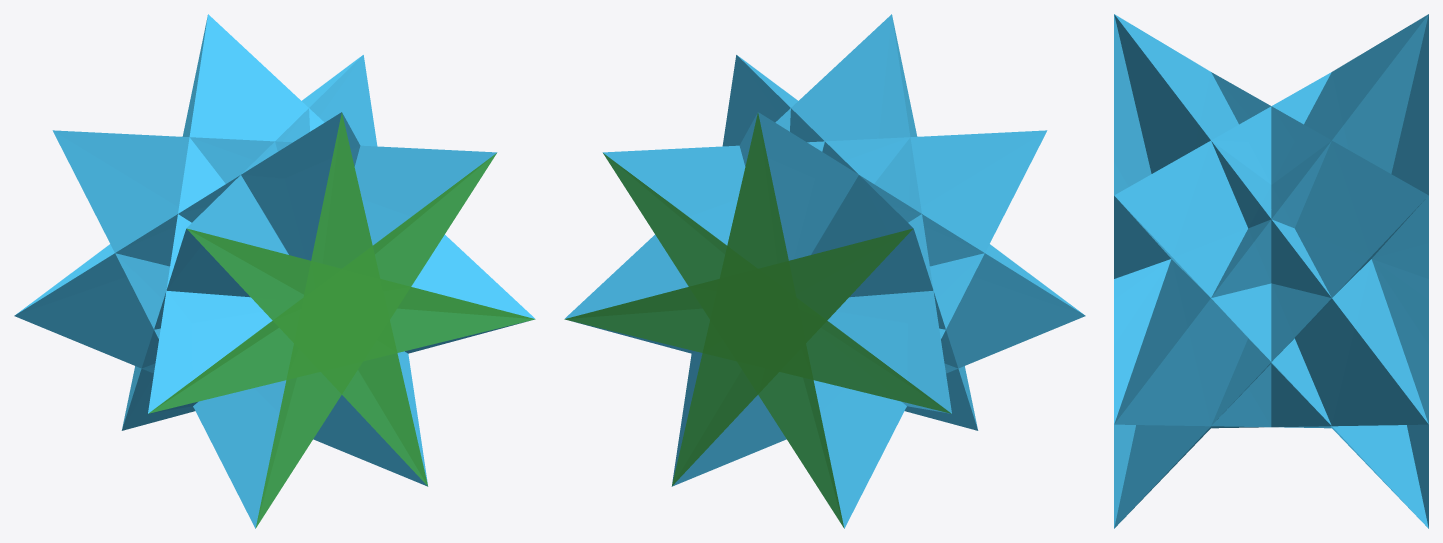
File: HeptagrammicCrossedAntiprism.obj
3 views of the same model, side by side, from view 1: azimuth 30°, elevation 25°; view 2: azimuth 150°, elevation 25°; view 3: azimuth 270°, elevation 25° (orthographic). The views are drawn at different scales.
Size of the model in its own units: 1 by 0.9749 by 0.5974.
